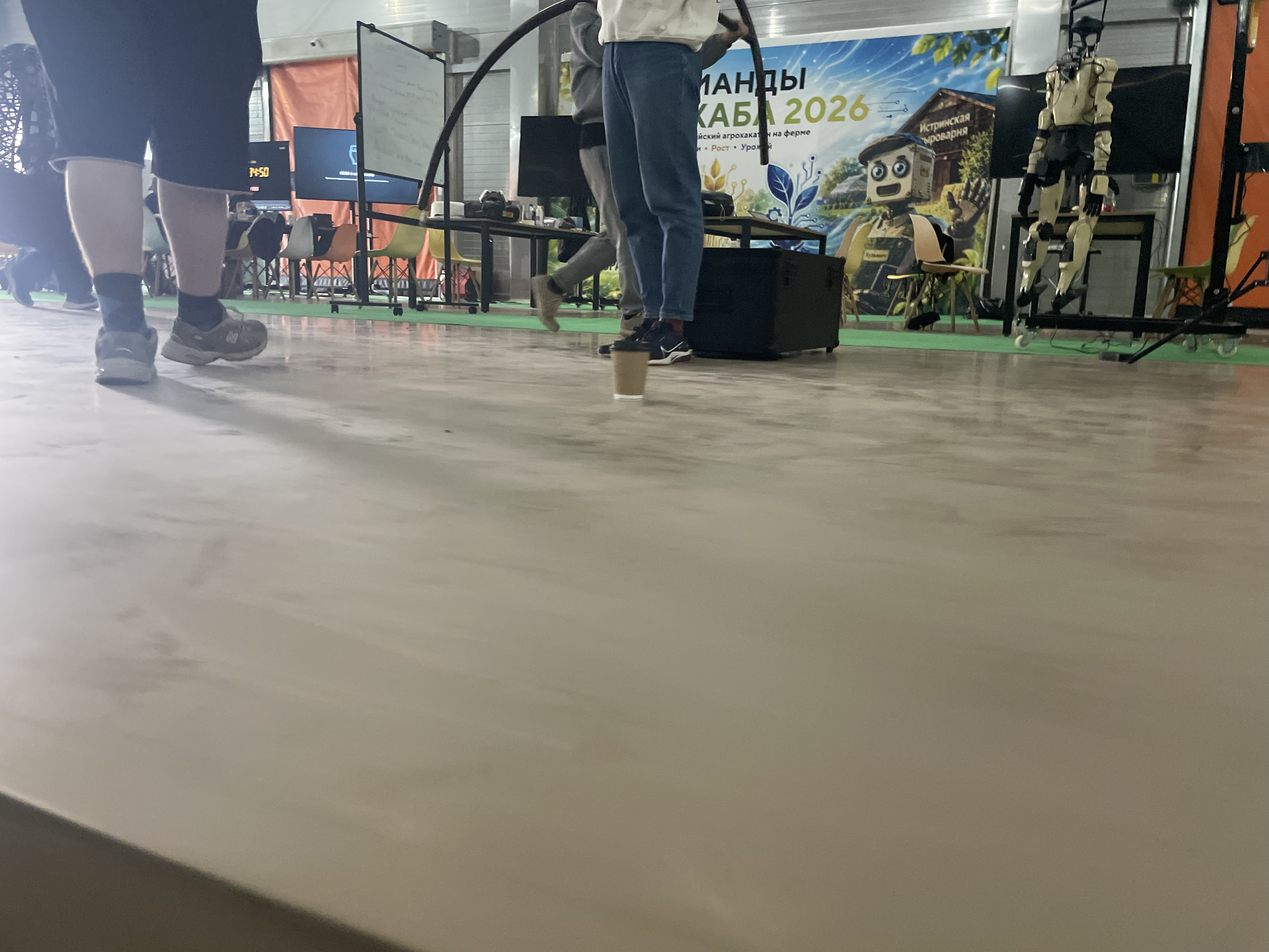cup: (609, 337, 651, 401)
